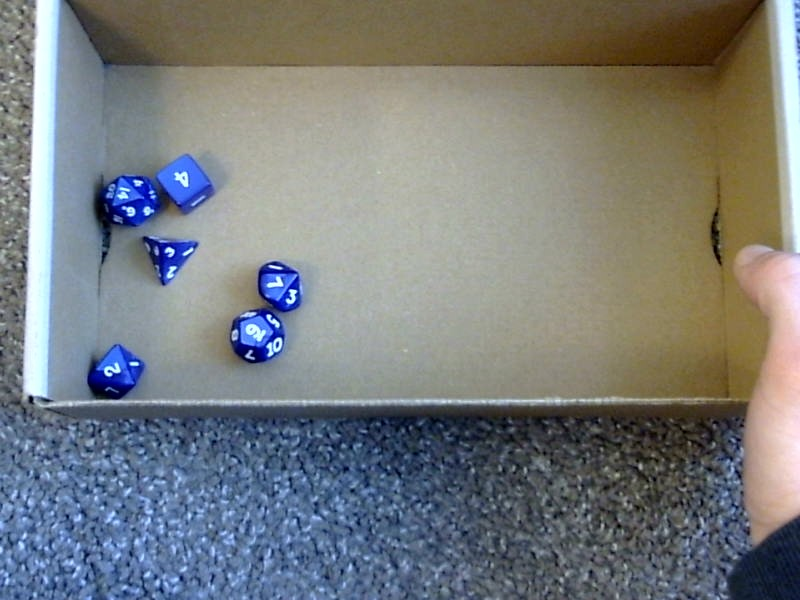d10 7: (250, 256, 310, 309)
d12 9: (224, 305, 290, 366)
d20 14: (98, 166, 162, 229)
d4 3: (136, 231, 201, 289)
d6 4: (154, 147, 216, 215)
d8 2: (84, 341, 151, 401)
